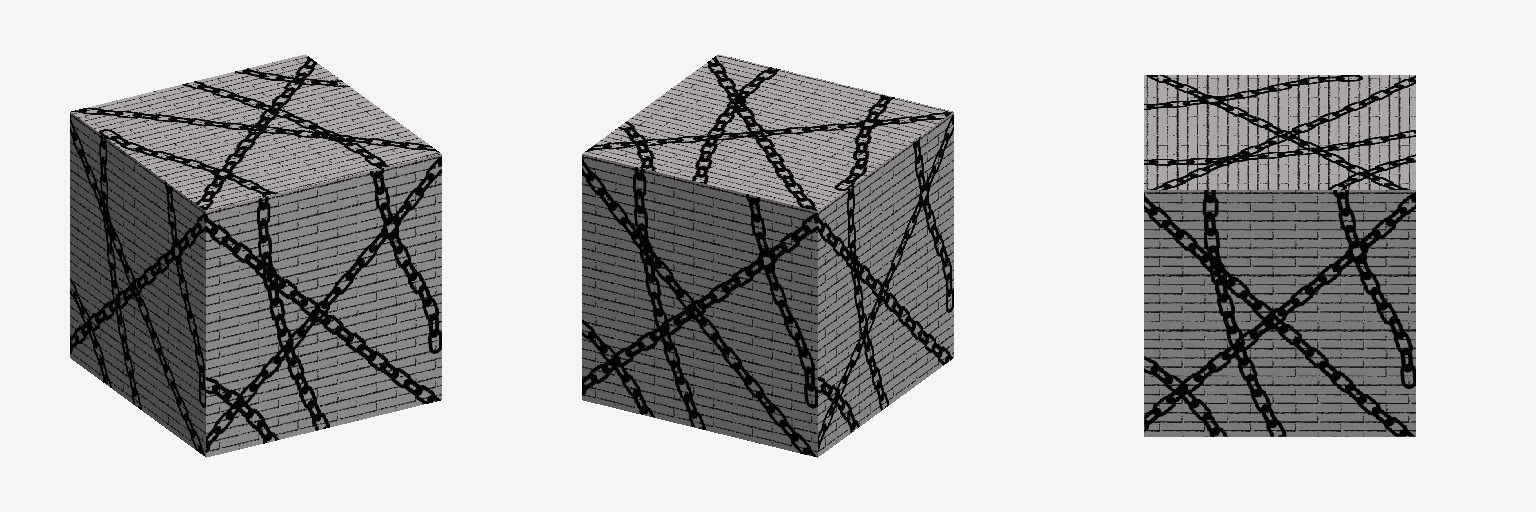
The picture shows the model from 3 angles: view 1: azimuth 30°, elevation 25°; view 2: azimuth 150°, elevation 25°; view 3: azimuth 270°, elevation 25°; orthographic projection.
Visible parts, largest first — view 1: Cube; view 2: Cube; view 3: Cube.
Boxes of the visible parts, box(x1,y1,x2,y2) form: Cube: box(70, 54, 441, 457); Cube: box(582, 54, 953, 457); Cube: box(1144, 75, 1415, 436).
Size of the model in its own units: 2 by 2 by 2.
Materials: 1 (1 with a texture image).